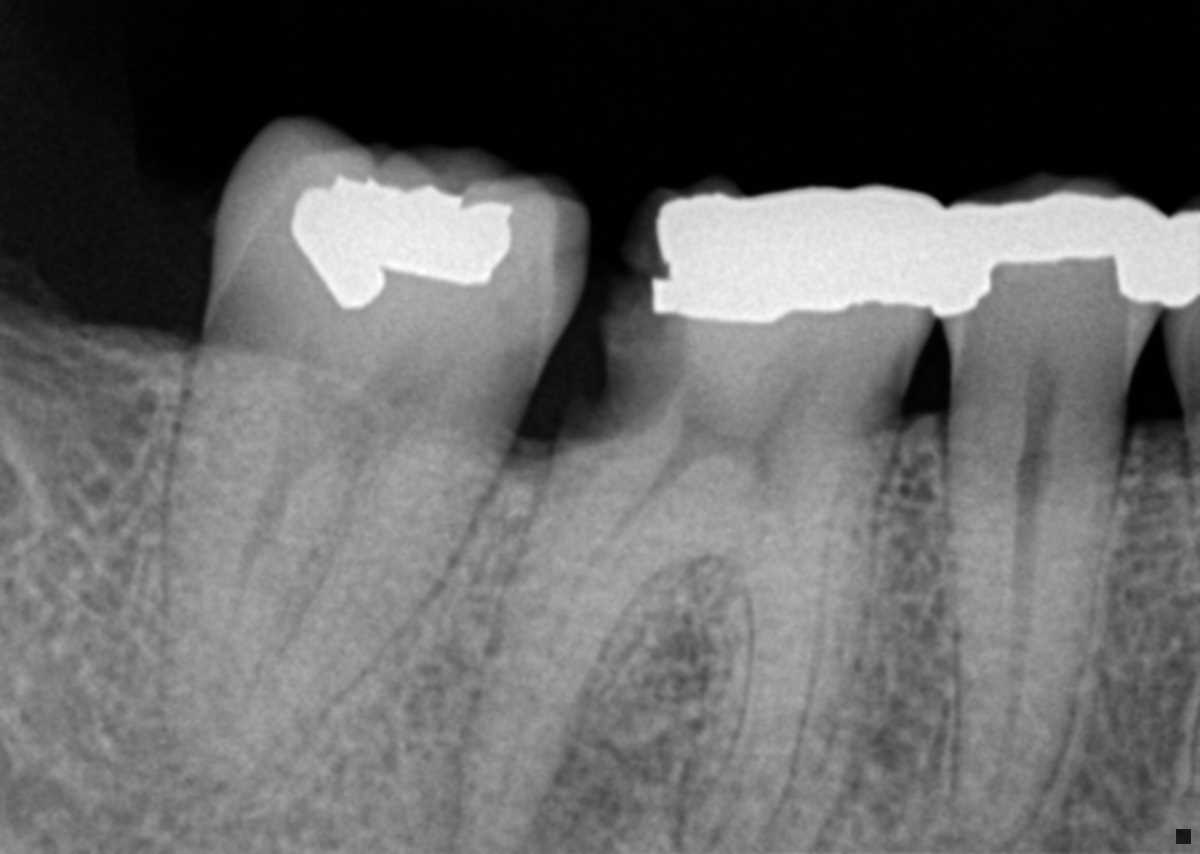Apical Lesion: (393, 718, 620, 854)
Distal Canal: (494, 450, 708, 819), (219, 385, 325, 660)
Distal Root: (451, 439, 717, 854), (155, 346, 342, 754)
Main Canal: (975, 435, 1054, 822)
Main Root: (943, 412, 1129, 850)
Mesial Root: (246, 375, 515, 761), (673, 431, 895, 854)
decay: (572, 187, 690, 448)
